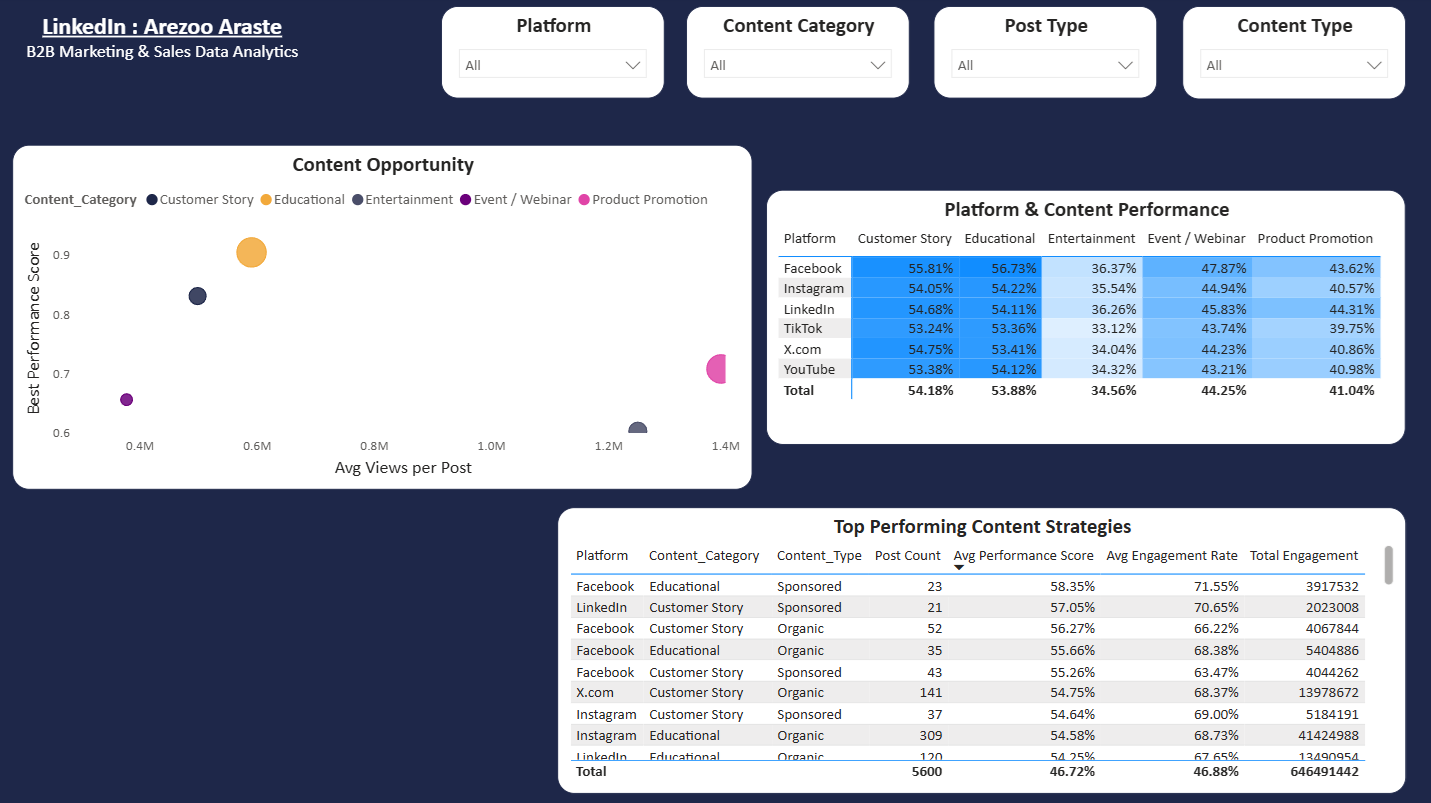

The page's visual inventory and layout, read from the dashboard file:
{"tool":"powerbi","page":{"name":"Content Strategy Analysis","canvas":[1280,720],"ordinal":1},"visuals":[{"type":"textbox","box":[14.5,8.9,267.2,83.5],"z":0},{"type":"pivotTable","title":"Platform & Content Performance","fields":{"Rows":["Dim_Platform.Platform"],"Columns":["Dim_Content.Content_Category"],"Values":["_Measures.Avg Performance Score"]},"box":[685.7,172.5,569.9,227.1],"z":1000},{"type":"tableEx","title":"Top Performing Content Strategies","fields":{"Values":["Dim_Platform.Platform","Dim_Content.Content_Category","Dim_Content.Content_Type","_Measures.Post Count","_Measures.Avg Performance Score","_Measures.Avg Engagement Rate","_Measures.Total Engagement"]},"box":[499.8,455.3,755.8,254.9],"z":2000},{"type":"scatterChart","title":"Content Opportunity","fields":{"X":["_Measures.Avg Views per Post"],"Y":["_Measures.Best Performance Score"],"Series":["Dim_Content.Content_Category"],"Size":["_Measures.Total Engagement"]},"box":[14.5,132.5,659,307.2],"z":3000},{"type":"slicer","title":"Platform","fields":{"Values":["Dim_Date.Date"]},"box":[396.3,8.9,199.3,82.4],"z":4000},{"type":"slicer","title":"Content Category","fields":{"Values":["Dim_Content.Content_Category"]},"box":[614.5,8.9,199.3,82.4],"z":5000},{"type":"slicer","title":"Post Type","fields":{"Values":["Dim_Content.Post_Type"]},"box":[834.9,8.9,199.3,82.4],"z":6000},{"type":"slicer","title":"Content Type","fields":{"Values":["Dim_Content.Content_Type"]},"box":[1056.4,8.9,199.3,83.5],"z":7000}]}

Visuals, with their boxes in screenshot pixels (x1, y1, x2, y2), scaled from the page's 1280x720 canvas onto the 1431x803 screenshot:
textbox: 16/10/315/103
"Platform & Content Performance" pivotTable: 767/192/1404/446
"Top Performing Content Strategies" tableEx: 559/508/1404/792
"Content Opportunity" scatterChart: 16/148/753/490
"Platform" slicer: 443/10/666/102
"Content Category" slicer: 687/10/910/102
"Post Type" slicer: 933/10/1156/102
"Content Type" slicer: 1181/10/1404/103
